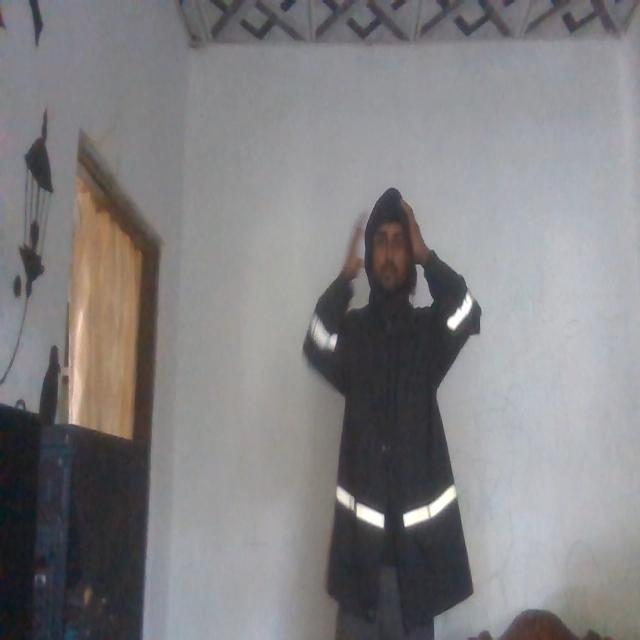Jacket_Wearer: (309, 263, 473, 603)
Person: (304, 181, 472, 640)
